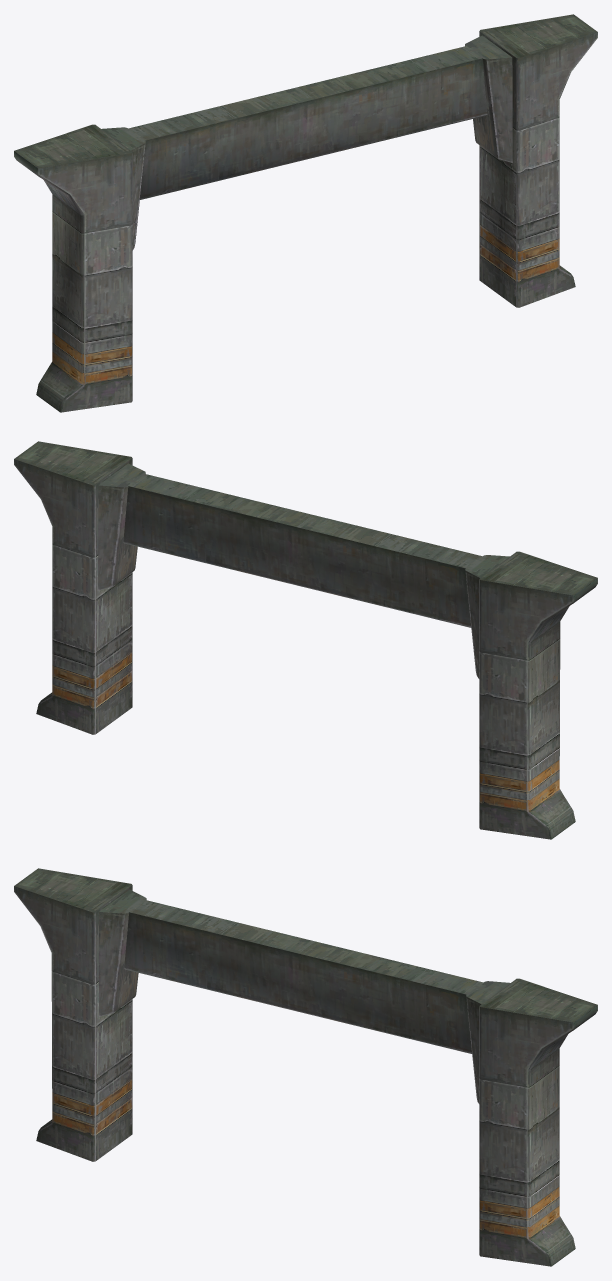
File: hut_arch_industrial_table_leg.glb
3 renders of one model, top to bottom at view 1: azimuth 30°, elevation 25°; view 2: azimuth 150°, elevation 25°; view 3: azimuth 330°, elevation 25°, orthographic.
Visible parts, largest first — view 1: hut_arch_industrial_table_leg; view 2: hut_arch_industrial_table_leg; view 3: hut_arch_industrial_table_leg.
Part boxes in pixels (x1,y1,x2,y2): hut_arch_industrial_table_leg: (14, 14, 597, 412); hut_arch_industrial_table_leg: (14, 441, 597, 839); hut_arch_industrial_table_leg: (14, 868, 597, 1266).
Bounding box in the file's own units: 1.88 × 0.8009 × 0.2268.
1 material, 1 textured.
